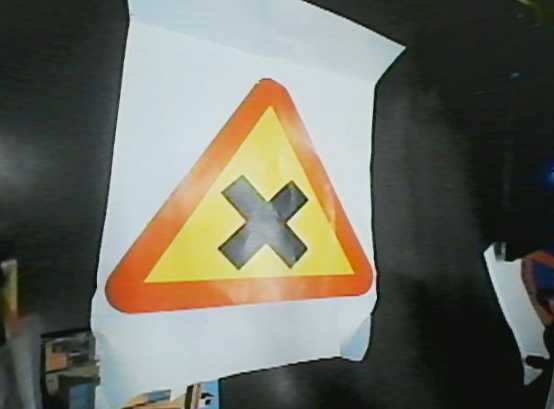junction: (102, 66, 378, 309)
